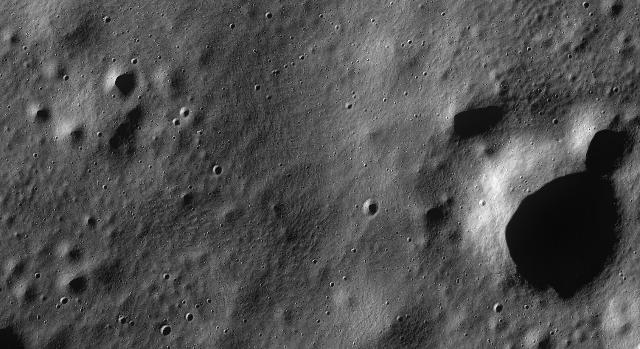crater: (495, 172, 633, 302), (579, 116, 637, 176), (447, 100, 508, 140), (105, 105, 145, 153), (0, 321, 28, 349), (115, 70, 139, 96), (422, 201, 446, 227), (29, 104, 55, 126), (64, 274, 88, 295), (64, 126, 85, 146), (18, 288, 38, 306), (60, 247, 82, 263), (364, 199, 380, 217), (182, 192, 196, 206), (442, 196, 456, 210), (178, 106, 190, 119), (212, 164, 222, 176), (160, 326, 172, 336), (184, 313, 196, 323), (87, 216, 97, 228), (537, 341, 551, 349), (494, 304, 504, 314), (118, 316, 128, 326), (172, 118, 182, 126), (396, 316, 406, 324), (163, 272, 171, 282), (104, 16, 112, 24), (128, 320, 136, 328), (582, 1, 590, 9), (345, 102, 353, 110), (34, 272, 40, 280), (60, 298, 68, 304), (131, 58, 139, 64), (255, 84, 261, 92), (266, 12, 272, 20), (328, 281, 336, 287), (63, 74, 69, 82), (552, 118, 558, 126), (229, 23, 235, 30), (612, 86, 618, 93), (206, 298, 212, 304), (524, 304, 530, 310), (242, 318, 248, 324), (32, 152, 38, 158), (102, 184, 108, 190), (300, 55, 306, 61), (370, 18, 376, 23), (56, 304, 60, 310), (316, 319, 320, 325), (326, 310, 330, 316), (98, 132, 102, 138), (290, 62, 296, 66), (284, 64, 288, 70), (335, 24, 339, 30), (352, 94, 356, 100), (80, 308, 84, 312), (112, 58, 116, 62), (313, 260, 317, 264), (166, 345, 170, 349), (182, 300, 186, 304), (196, 305, 200, 309), (87, 169, 91, 173), (94, 162, 98, 166), (268, 59, 272, 63), (290, 36, 294, 40), (320, 14, 324, 18), (408, 40, 412, 44), (423, 72, 427, 76), (404, 92, 408, 96), (383, 98, 387, 102), (351, 90, 355, 94), (550, 331, 554, 335), (464, 333, 468, 337), (200, 302, 203, 306), (80, 146, 82, 150), (52, 162, 56, 164), (415, 76, 419, 78), (258, 334, 262, 336), (499, 320, 503, 322), (210, 310, 213, 312), (402, 43, 404, 46), (225, 330, 228, 332), (217, 327, 220, 329), (71, 162, 73, 164), (227, 328, 229, 330)
